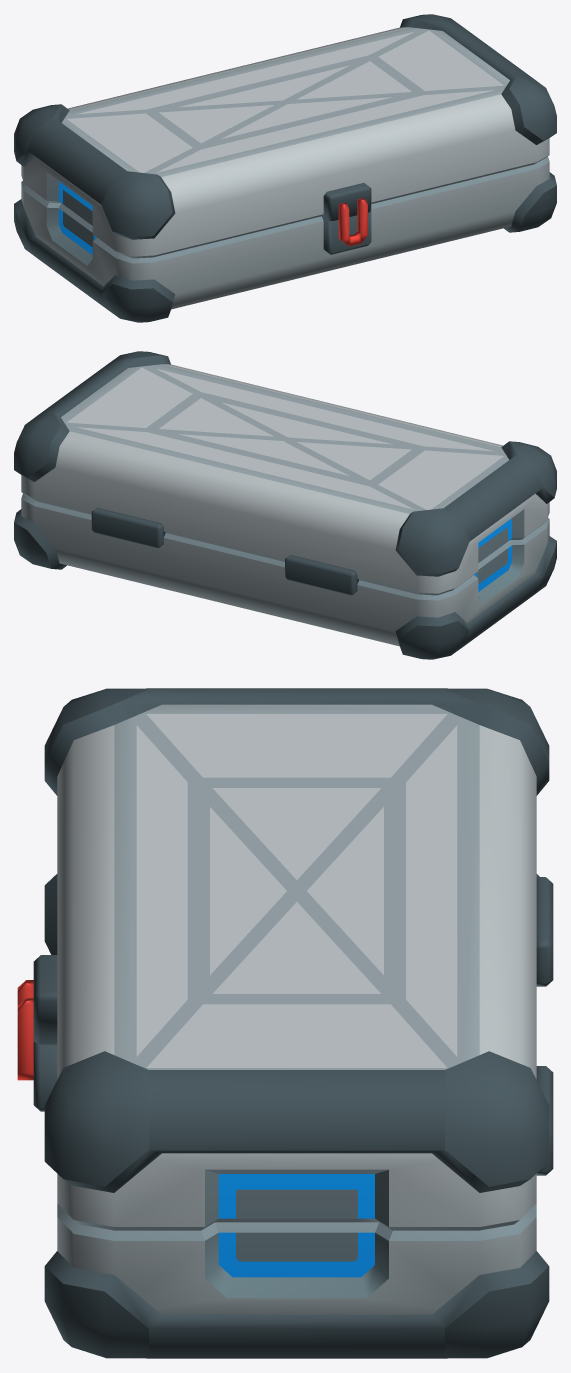
File: Crate_005.glb
3 views of the same model, one above another, from view 1: azimuth 30°, elevation 25°; view 2: azimuth 150°, elevation 25°; view 3: azimuth 270°, elevation 25° (orthographic). The views are drawn at different scales.
Visible parts, largest first — view 1: Crate_005; view 2: Crate_005; view 3: Crate_005.
Boxes of the visible parts, left/top/right/bottom form: Crate_005: left=14, top=14, right=556, bottom=322; Crate_005: left=14, top=351, right=556, bottom=659; Crate_005: left=17, top=688, right=553, bottom=1358.
Bounding box in the file's own units: 1.33 × 0.4144 × 0.6989.
2 materials, 2 textured.
